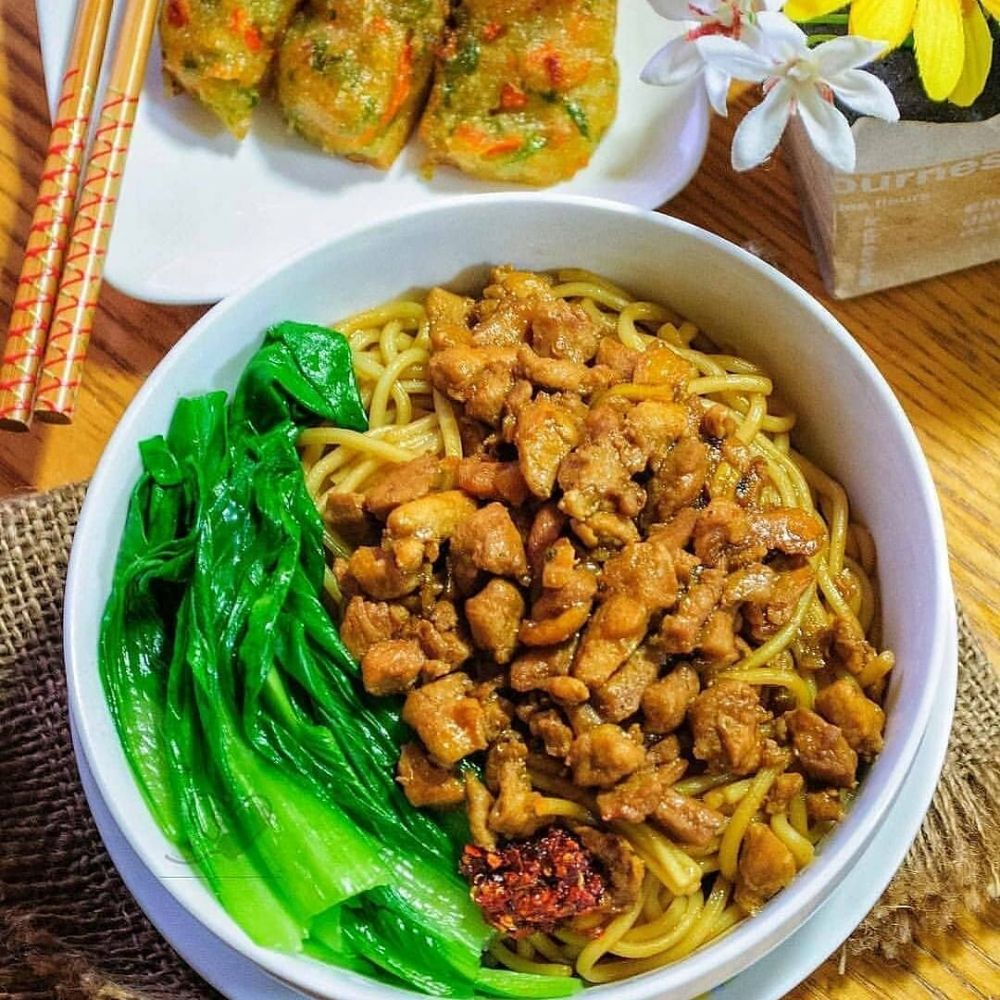Mie: (210, 285, 872, 965)
